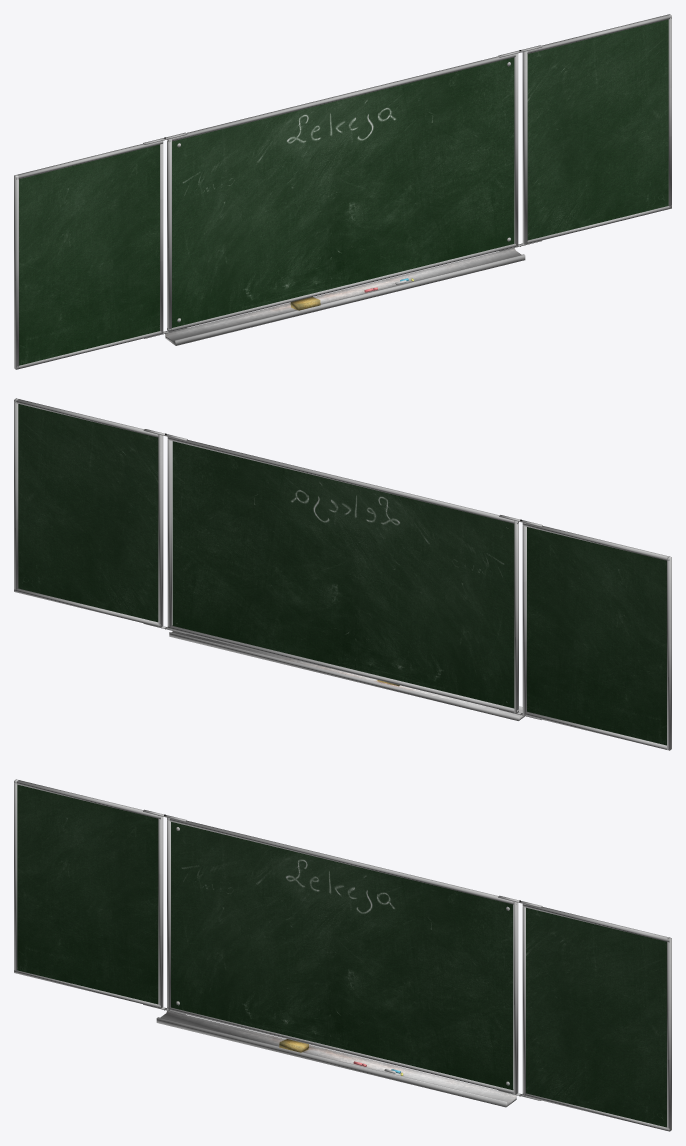
The picture shows the model from 3 angles, top to bottom: view 1: azimuth 30°, elevation 25°; view 2: azimuth 150°, elevation 25°; view 3: azimuth 330°, elevation 25°; orthographic projection.
Visible parts, largest first — view 1: Object_3; view 2: Object_3; view 3: Object_3.
Boxes of the visible parts, x1,y1,x2,y2 form: Object_3: (14,14,671,369); Object_3: (14,398,671,750); Object_3: (14,779,671,1131).
Size of the model in its own units: 6.07 by 1.78 by 0.1875.
Materials: 2 (2 with a texture image).
